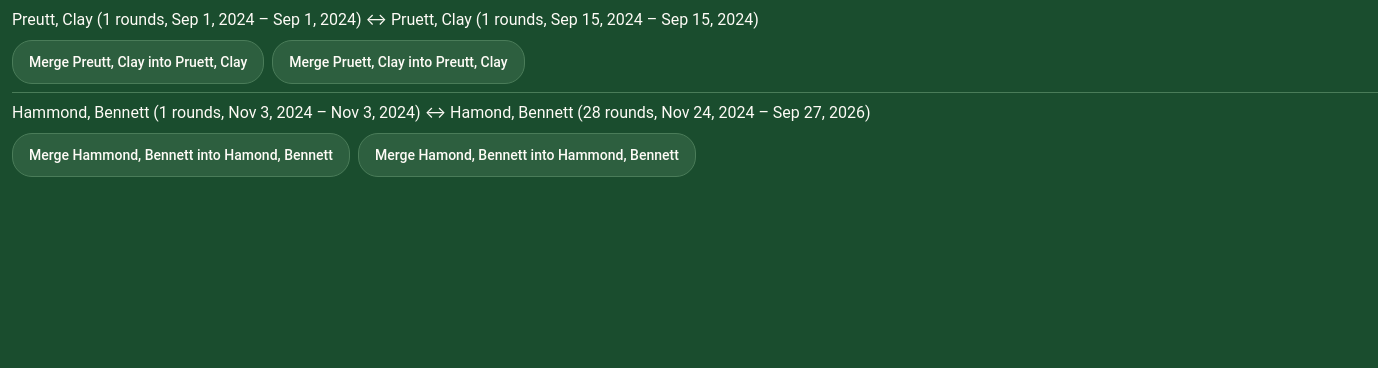
Test: DuplicatesQueue › runs a dry run first and warns when the shooters share dates
Click the button "Merge Hamond, Bennett into Hammond, Bennett".
click(527, 155)  # box left=358, top=133, right=696, bottom=177
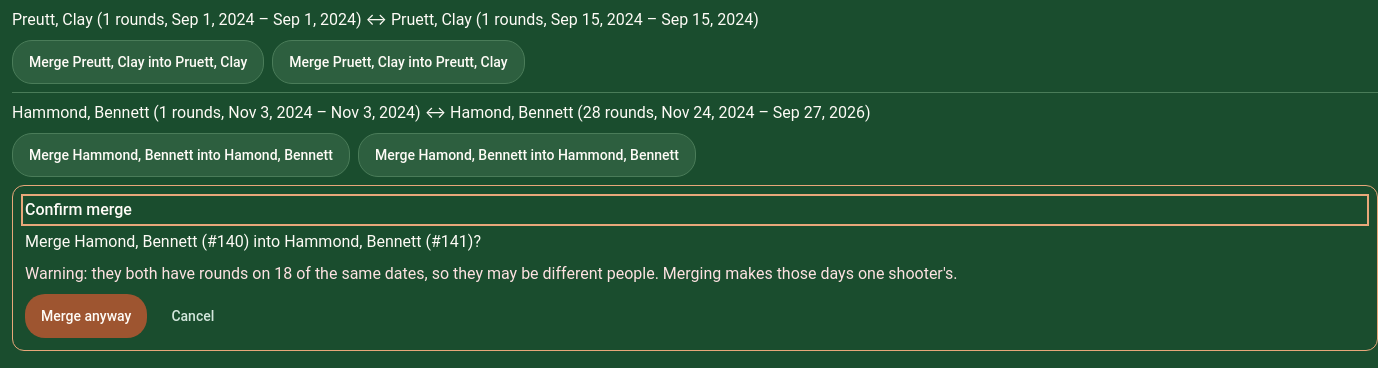
Now the text "both have rounds on 18 of the same dates" is shown, box left=25, top=264, right=958, bottom=283
Click the button "Merge anyway".
click(86, 316)  # box left=25, top=294, right=147, bottom=338
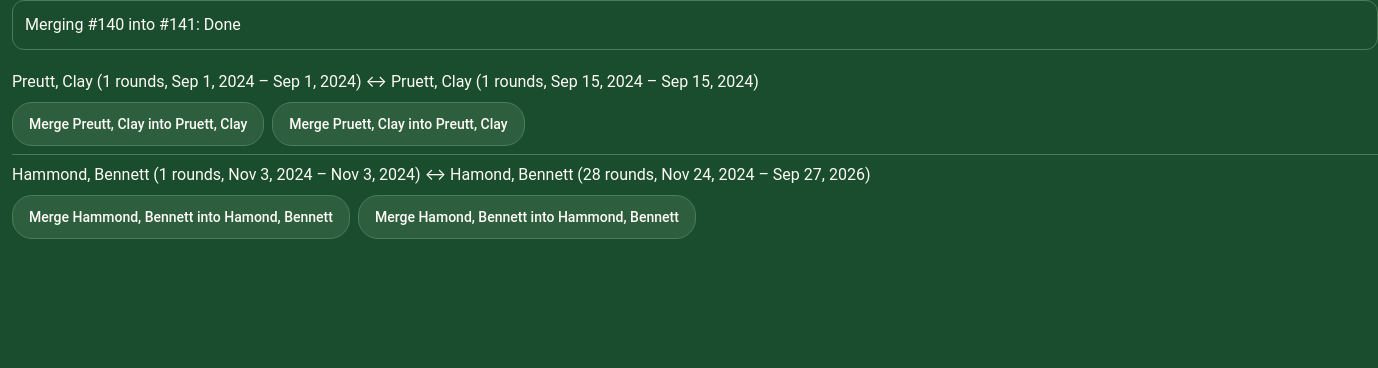
Now the text "Merging #140 into #141: Done" is shown, box left=12, top=0, right=1377, bottom=50
